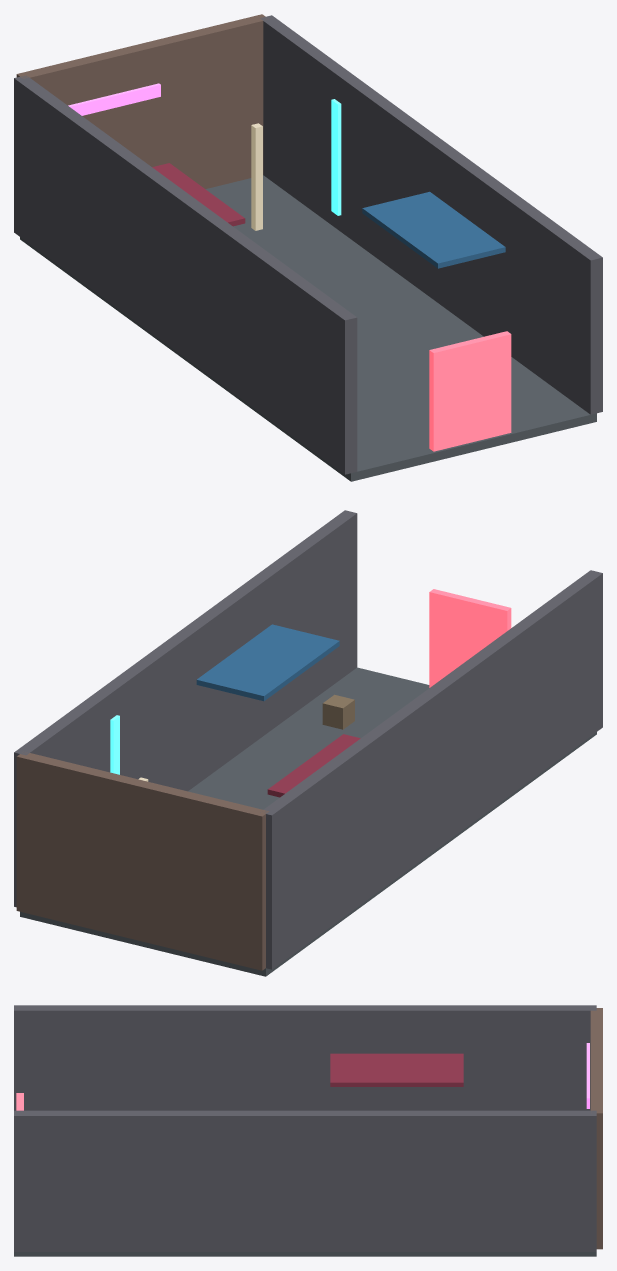
File: world.glb
The picture shows the model from 3 angles, top to bottom: view 1: azimuth 30°, elevation 25°; view 2: azimuth 150°, elevation 25°; view 3: azimuth 270°, elevation 25°; orthographic projection. The views are drawn at different scales.
Visible parts, largest first — view 1: wall_west, wall_east, floor, wall_warm_brick, return_frame, awning_right, awning_left, street_lamp, neon_cyan, neon_pink; view 2: wall_west, wall_warm_brick, wall_east, floor, awning_right, return_frame, awning_left, crate_b; view 3: wall_east, wall_west, awning_left, floor, wall_warm_brick.
Boxes of the visible parts, x1,y1,x2,y2 form: wall_west: (14,75,357,474); wall_east: (260,15,602,414); floor: (20,175,596,481); wall_warm_brick: (16,14,268,188); return_frame: (429,331,511,451); awning_right: (362,191,505,268); awning_left: (152,163,245,226); street_lamp: (251,123,262,230); neon_cyan: (331,99,341,215); neon_pink: (68,83,160,115); wall_west: (260,570,602,969); wall_warm_brick: (16,751,268,970); wall_east: (14,510,357,907); floor: (20,667,596,976); awning_right: (196,624,339,701); return_frame: (429,589,511,687); awning_left: (267,734,360,797); crate_b: (322,694,354,729); wall_east: (14,1110,596,1251); wall_west: (14,1005,596,1110); awning_left: (330,1053,463,1086); floor: (14,1252,596,1256); wall_warm_brick: (590,1008,602,1249).
Bounding box in the file's own units: 6.3 × 3.8 × 14.15.
